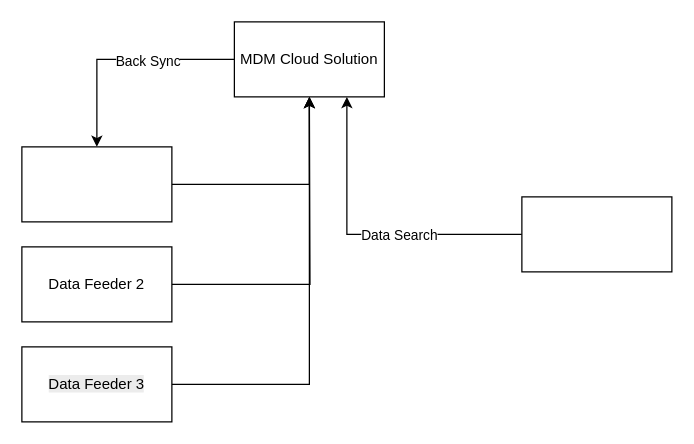
Some shapes in this 694 by 444 pixel diagram are drawn without their labels. Here are the shapes that lost their labels. From the top down, the centre of each, then its label:
At pixel 96 184: "Data Feeder 1".
At pixel 596 234: "Ecommerce Applications".
